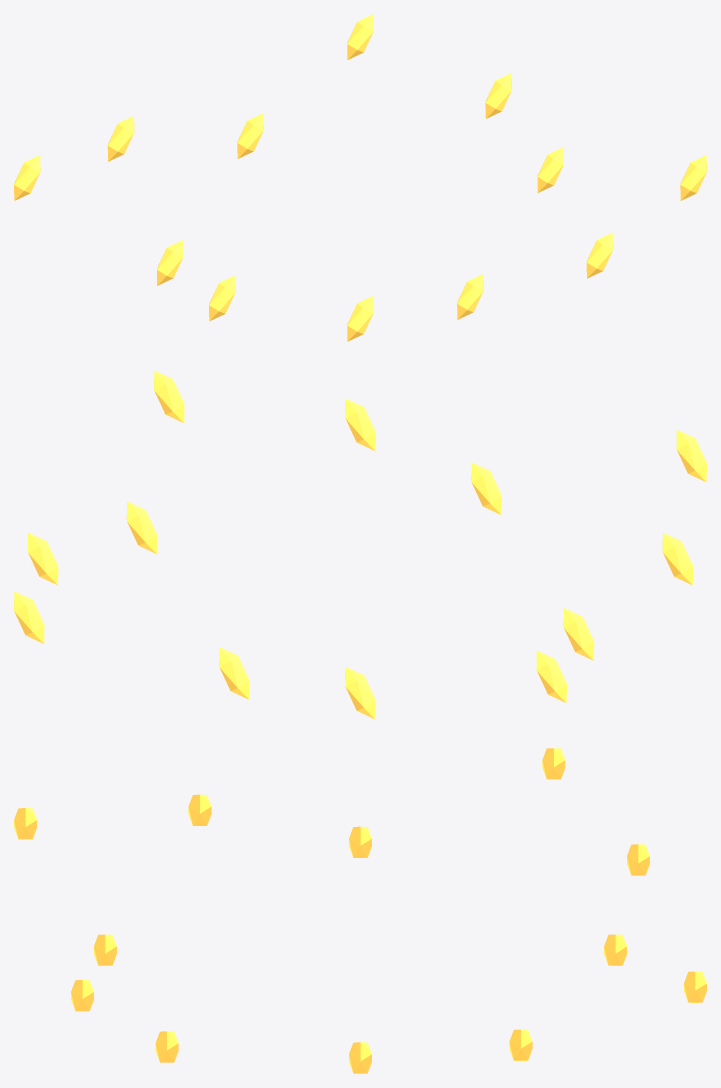
File: combo-sparks.glb
The picture shows the model from 3 angles, top to bottom: view 1: azimuth 30°, elevation 25°; view 2: azimuth 150°, elevation 25°; view 3: azimuth 270°, elevation 25°; orthographic projection. The views are drawn at different scales.
Parts seen in each view (by area): view 1: combo-sparks; view 2: combo-sparks; view 3: combo-sparks.
Boxes of the visible parts, <box> form: combo-sparks: <box>14,14,706,341</box>; combo-sparks: <box>14,370,706,718</box>; combo-sparks: <box>14,748,706,1073</box>.
Bounding box in the file's own units: 1.71 × 0.2438 × 1.68.
